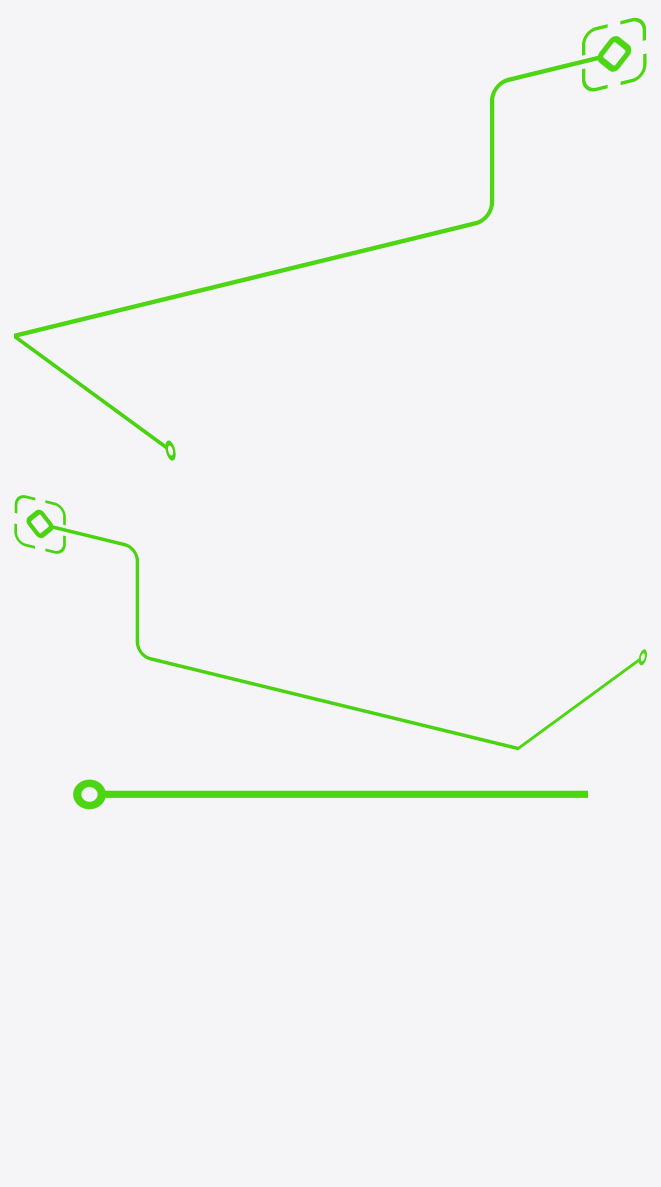
The model's file is 8_1_cl_active.glb.
The picture shows the model from 3 angles, top to bottom: view 1: azimuth 30°, elevation 25°; view 2: azimuth 150°, elevation 25°; view 3: azimuth 270°, elevation 25°; orthographic projection. The views are drawn at different scales.
Parts seen in each view (by area): view 1: 8_1_cl_active; view 2: 8_1_cl_active; view 3: 8_1_cl_active.
Part boxes in pixels (x1,y1,x2,y2): 8_1_cl_active: [14, 17, 646, 460]; 8_1_cl_active: [14, 495, 646, 749]; 8_1_cl_active: [73, 779, 587, 809].
Bounding box in the file's own units: 11.44 × 3.06 × 5.06.
Materials: 1 (1 with a texture image).
